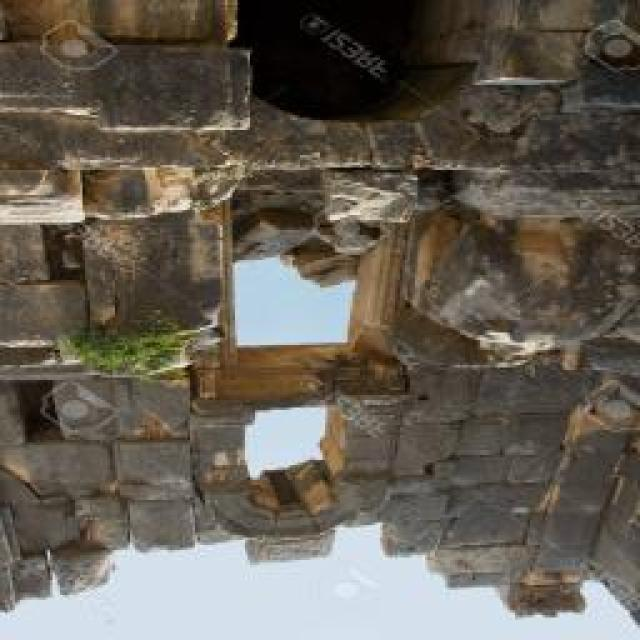crack: (1, 2, 638, 624), (414, 96, 638, 196), (91, 45, 250, 139), (72, 129, 239, 194), (2, 36, 108, 120), (1, 106, 104, 173), (6, 436, 112, 498), (2, 280, 91, 350), (321, 171, 416, 234), (3, 474, 83, 548), (416, 104, 503, 169), (1, 165, 87, 226), (202, 479, 295, 535), (116, 374, 192, 440), (43, 379, 121, 441), (115, 436, 194, 489), (51, 534, 118, 595), (356, 121, 434, 173), (125, 496, 197, 551), (1, 217, 56, 286), (191, 416, 252, 471), (515, 0, 603, 32), (1, 507, 24, 614), (10, 551, 53, 603), (187, 395, 250, 423)
vegetation: (53, 314, 204, 382)
